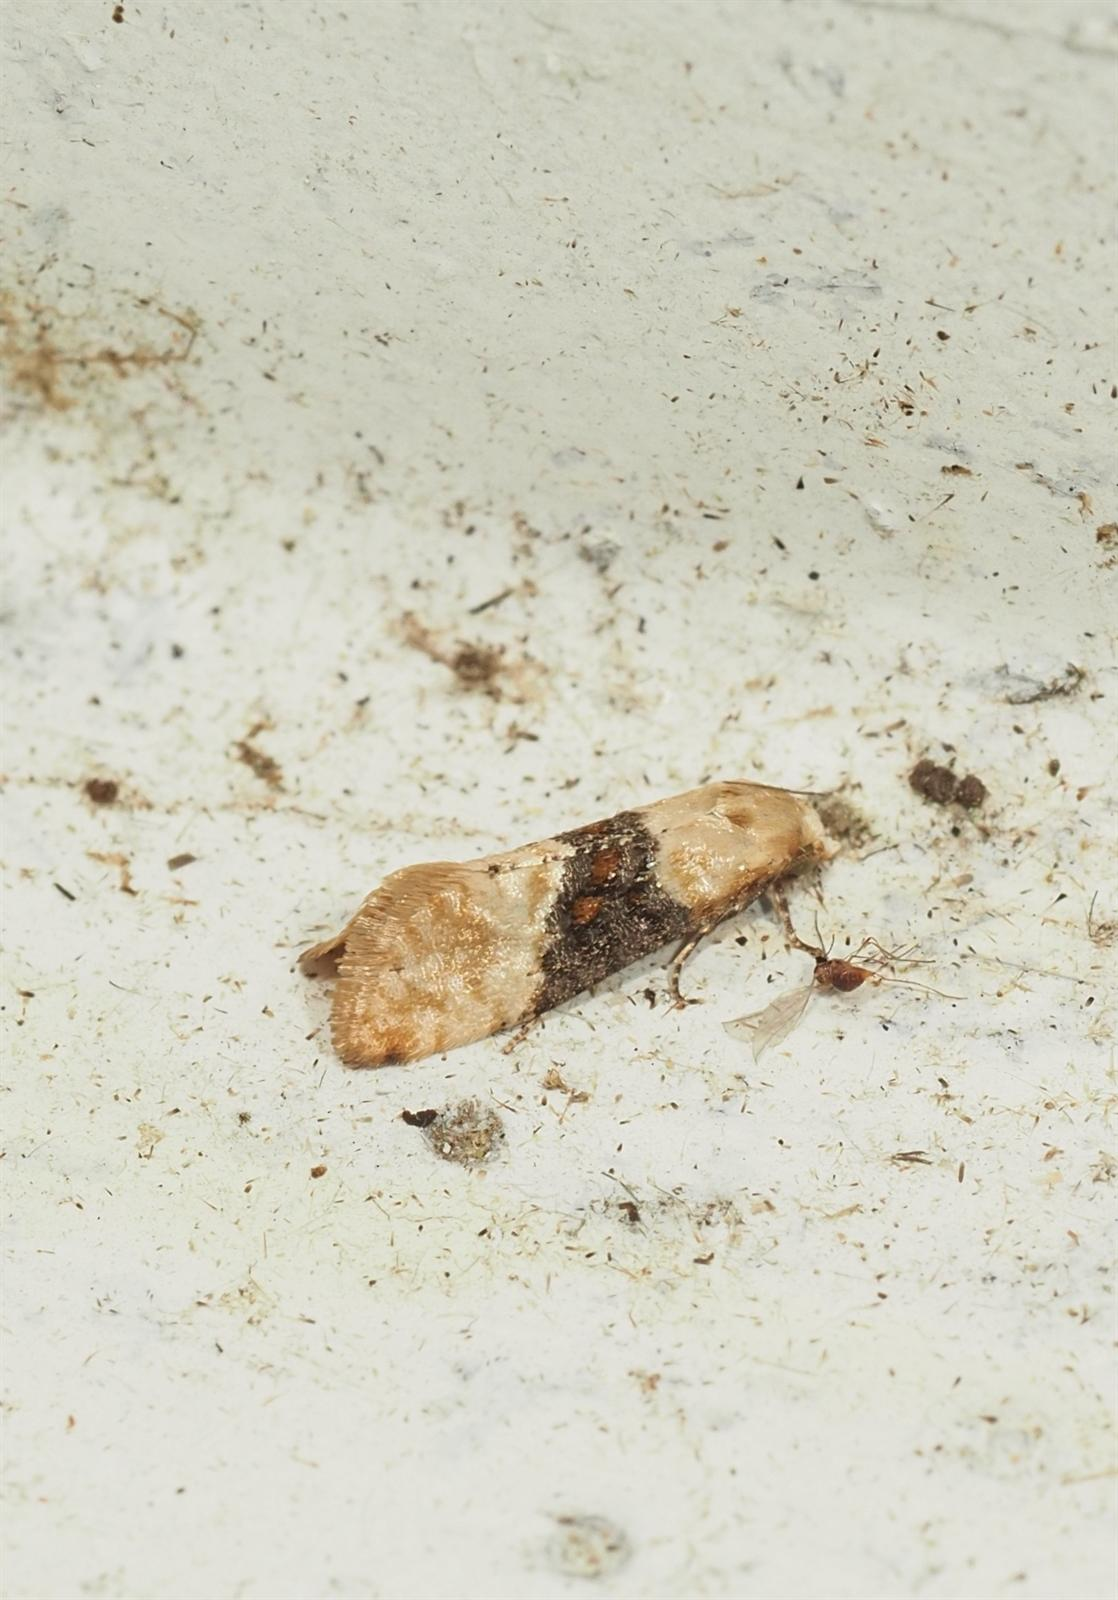Eupoecilia Ambiguella: (295, 776, 831, 1074)
